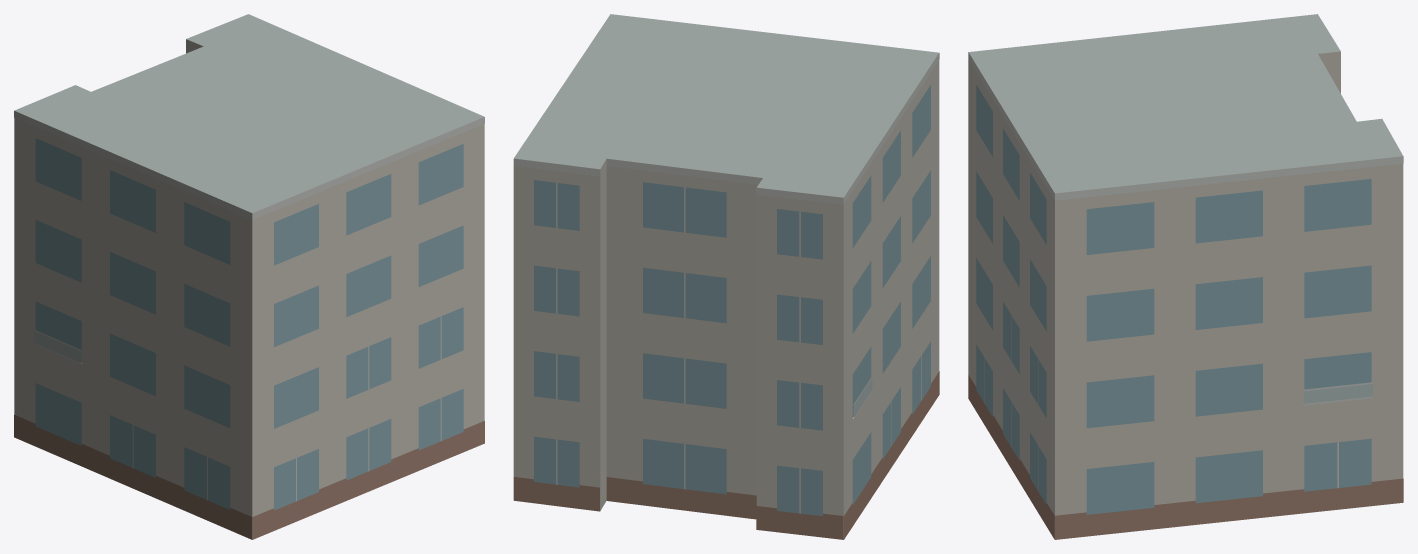
The model's file is survey-upis-32686875.glb.
3 views of the same model, side by side, from view 1: azimuth 30°, elevation 25°; view 2: azimuth 150°, elevation 25°; view 3: azimuth 270°, elevation 25° (orthographic). The views are drawn at different scales.
Visible parts, largest first — view 1: survey-upis-32686875.tmp; view 2: survey-upis-32686875.tmp; view 3: survey-upis-32686875.tmp.
Part boxes in pixels (left/top/right/bottom): survey-upis-32686875.tmp: left=14, top=14, right=484, bottom=539; survey-upis-32686875.tmp: left=513, top=14, right=939, bottom=539; survey-upis-32686875.tmp: left=968, top=14, right=1403, bottom=539.
Bounding box in the file's own units: 12.95 × 11.65 × 13.27.
